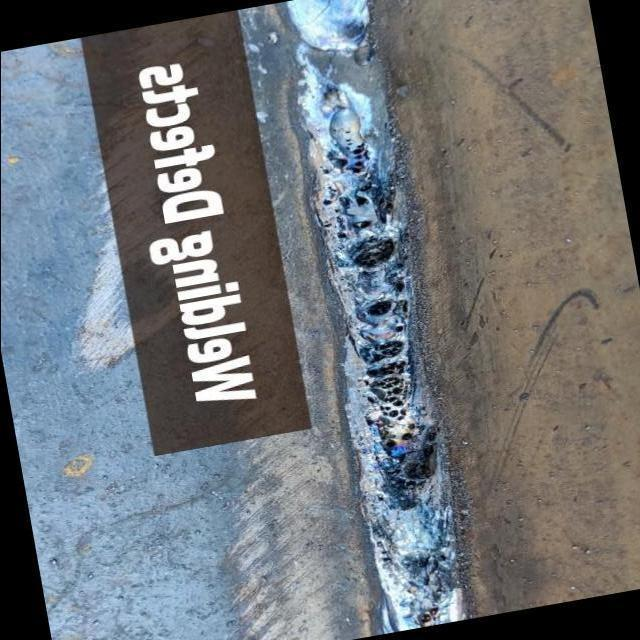defect: (352, 340, 441, 495), (318, 124, 372, 178), (348, 233, 399, 271), (368, 297, 410, 319), (375, 195, 402, 227), (411, 550, 448, 573), (352, 180, 376, 207), (417, 605, 443, 627), (349, 219, 374, 230), (379, 547, 393, 564), (392, 282, 408, 292), (394, 322, 406, 334), (325, 185, 339, 194), (318, 221, 333, 229), (335, 231, 348, 239), (322, 198, 334, 206), (330, 208, 344, 214), (394, 263, 406, 269), (379, 494, 386, 502)
